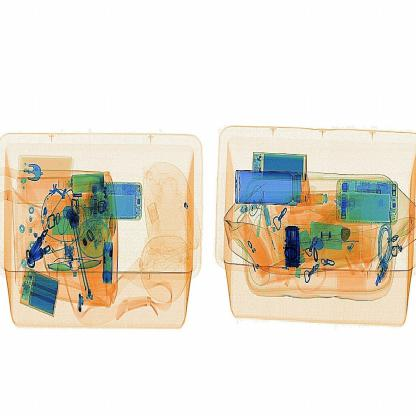scissors: (282, 222, 305, 272)
